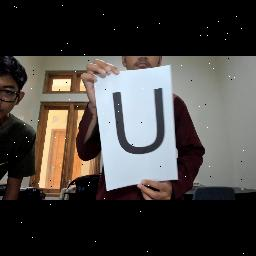u: (106, 84, 168, 160)
